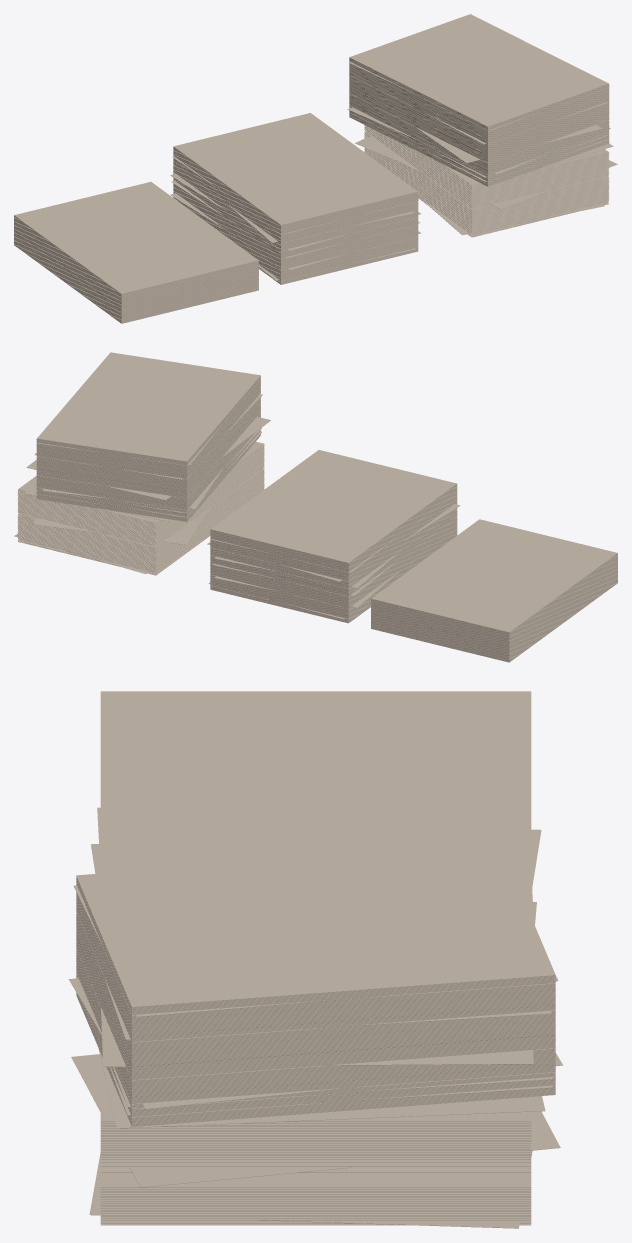
File: papers.fbx
The picture shows the model from 3 angles, top to bottom: view 1: azimuth 30°, elevation 25°; view 2: azimuth 150°, elevation 25°; view 3: azimuth 270°, elevation 25°; orthographic projection. The views are drawn at different scales.
Visible parts, largest first — view 1: pPlane576; view 2: pPlane576; view 3: pPlane576.
Part boxes in pixels (<box>): pPlane576: <box>14,14,617,323</box>; pPlane576: <box>14,352,617,662</box>; pPlane576: <box>69,691,562,1228</box>.
Size of the model in its own units: 4.28 by 0.9177 by 1.81.
